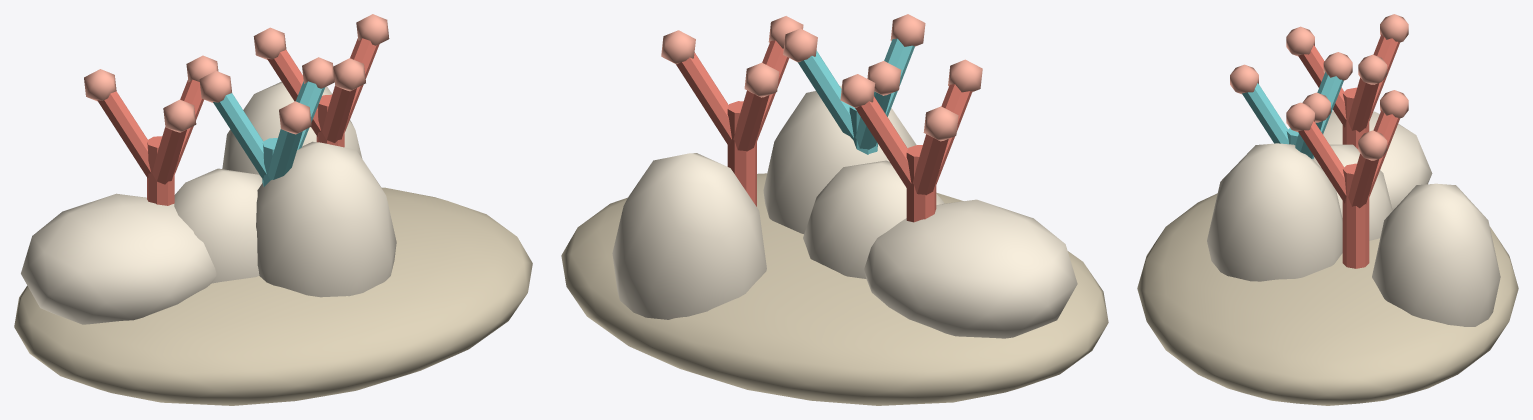
The model's file is reef-04.glb.
3 views of the same model, side by side, from view 1: azimuth 30°, elevation 25°; view 2: azimuth 150°, elevation 25°; view 3: azimuth 270°, elevation 25° (orthographic). The views are drawn at different scales.
Parts seen in each view (by area): view 1: Sculpted reef base, Reef rock, Reef rock.001, Reef rock.003, Reef rock.002, Coral crown.001, Coral crown.004, Coral crown.002, Coral crown.008, Coral crown.007, Coral crown.005, Coral stem (+13 smaller); view 2: Sculpted reef base, Reef rock, Reef rock.002, Reef rock.001, Reef rock.003, Coral crown, Coral crown.006, Coral crown.003, Coral stem.002, Coral crown.001, Coral crown.007, Coral stem (+13 smaller); view 3: Sculpted reef base, Reef rock.001, Reef rock.002, Reef rock, Coral stem.002, Reef rock.003, Coral crown.008, Coral crown.005, Coral crown, Coral crown.006, Coral crown.002, Coral polyp (+12 smaller).
Boxes of the visible parts, x1,y1,x2,y2 form: Sculpted reef base: (14, 187, 532, 405); Reef rock: (21, 193, 216, 324); Reef rock.001: (256, 141, 396, 297); Reef rock.003: (174, 168, 262, 283); Reef rock.002: (222, 81, 362, 176); Coral crown.001: (97, 91, 151, 178); Coral crown.004: (213, 93, 266, 180); Coral crown.002: (152, 127, 186, 184); Coral crown.008: (322, 85, 356, 142); Coral crown.007: (267, 49, 320, 136); Coral crown.005: (268, 129, 302, 179); Coral stem: (147, 136, 174, 205); Sculpted reef base: (561, 173, 1108, 405); Reef rock: (864, 199, 1077, 338); Reef rock.002: (612, 153, 766, 319); Reef rock.001: (763, 85, 916, 233); Reef rock.003: (803, 160, 944, 278); Coral crown: (855, 96, 911, 189); Coral crown.006: (676, 52, 731, 146); Coral crown.003: (797, 50, 853, 139); Coral stem.002: (727, 101, 756, 206); Coral crown.001: (912, 134, 948, 195); Coral crown.007: (733, 90, 769, 151); Coral stem: (906, 145, 936, 222); Sculpted reef base: (1137, 193, 1518, 405); Reef rock.001: (1207, 143, 1342, 281); Reef rock.002: (1372, 183, 1500, 326); Reef rock: (1323, 111, 1432, 210); Coral stem.002: (1342, 163, 1369, 268); Reef rock.003: (1313, 144, 1392, 240); Coral crown.008: (1298, 121, 1346, 203); Coral crown.005: (1242, 83, 1288, 144); Coral crown: (1348, 77, 1379, 132); Coral crown.006: (1348, 153, 1378, 208); Coral crown.002: (1298, 45, 1346, 127); Coral polyp: (1358, 54, 1387, 84).
Bounding box in the file's own units: 2.7 × 1.56 × 2.04.
